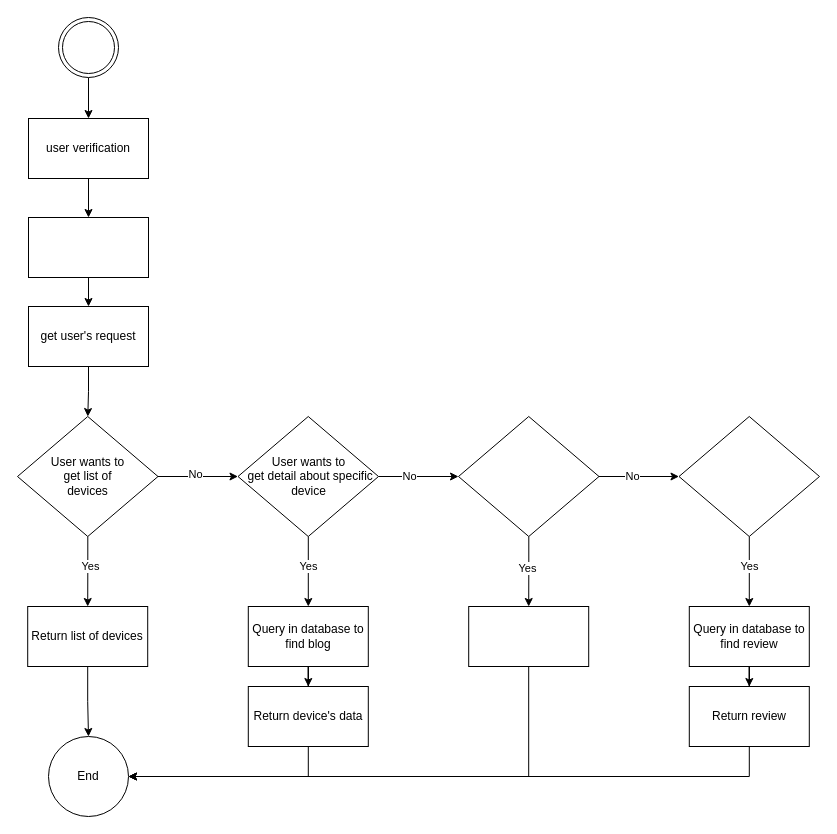
Image size: 837x834. Some labels were removed from this diagram. Here are the shapes that lost their labels. From the top down, the centre of each, then its label:
At (x=88, y=47): "Start".
At (x=88, y=247): "show home page".
At (x=528, y=476): "User wants to get list of reviews".
At (x=749, y=476): "User wants to read specific review".
At (x=528, y=636): "Return list of reviews".
